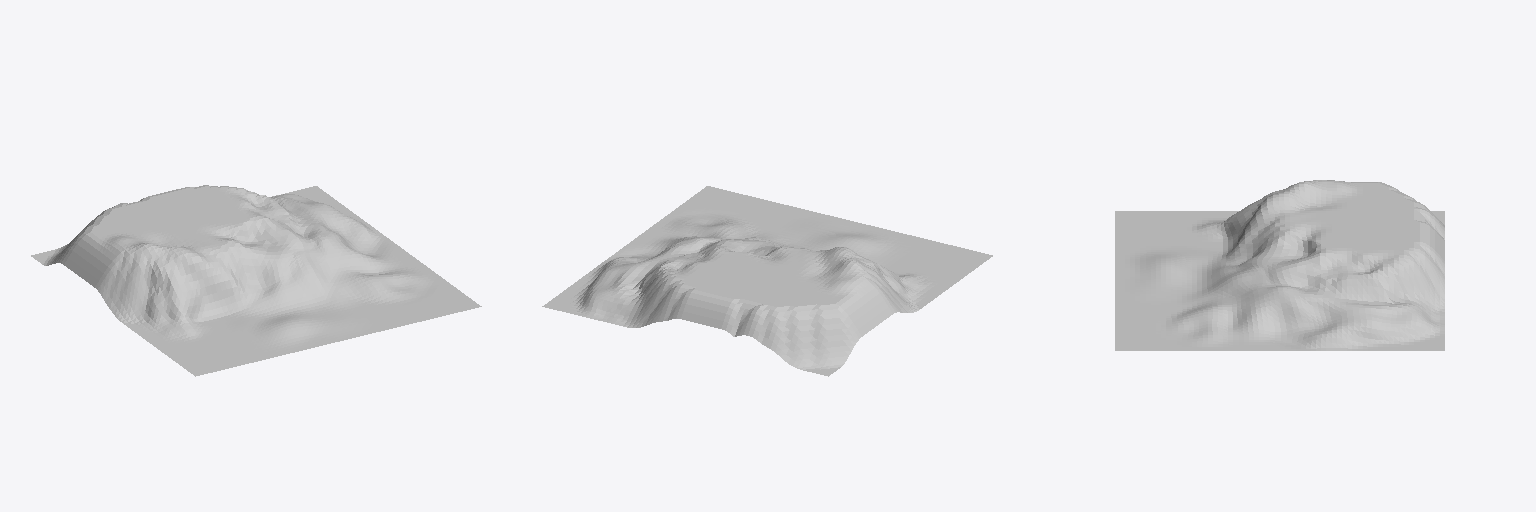
File: Terrain.obj
3 views of the same model, side by side, from view 1: azimuth 30°, elevation 25°; view 2: azimuth 150°, elevation 25°; view 3: azimuth 270°, elevation 25° (orthographic).
Visible parts, largest first — view 1: Plane; view 2: Plane; view 3: Plane.
Part boxes in pixels (left/top/right/bottom): Plane: left=31, top=185, right=481, bottom=376; Plane: left=542, top=186, right=992, bottom=376; Plane: left=1115, top=180, right=1444, bottom=350.
Size of the model in its own units: 71.42 by 12.52 by 71.42.